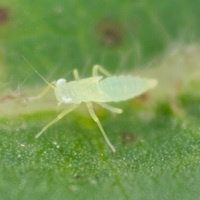insect: (25, 58, 156, 151)
